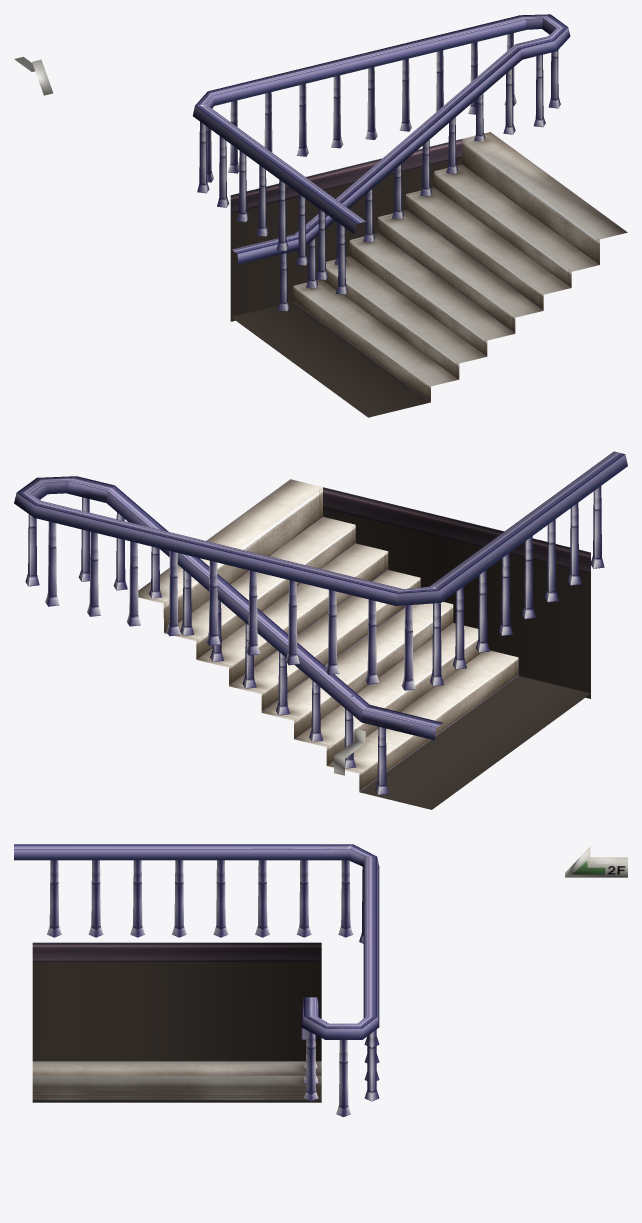
Rendered from a_SCfloor01_03.glb.
The picture shows the model from 3 angles, top to bottom: view 1: azimuth 30°, elevation 25°; view 2: azimuth 150°, elevation 25°; view 3: azimuth 270°, elevation 25°; orthographic projection. The views are drawn at different scales.
Parts seen in each view (by area): view 1: a_SCfloor01_03; view 2: a_SCfloor01_03; view 3: a_SCfloor01_03.
Part boxes in pixels (<box>): a_SCfloor01_03: <box>14,14,627,417</box>; a_SCfloor01_03: <box>14,451,627,809</box>; a_SCfloor01_03: <box>14,844,627,1117</box>.
Size of the model in its own units: 4.77 by 2.32 by 5.85.
Materials: 3 (3 with a texture image).
